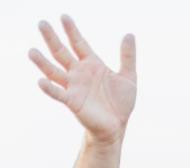down: (26, 13, 136, 141)
